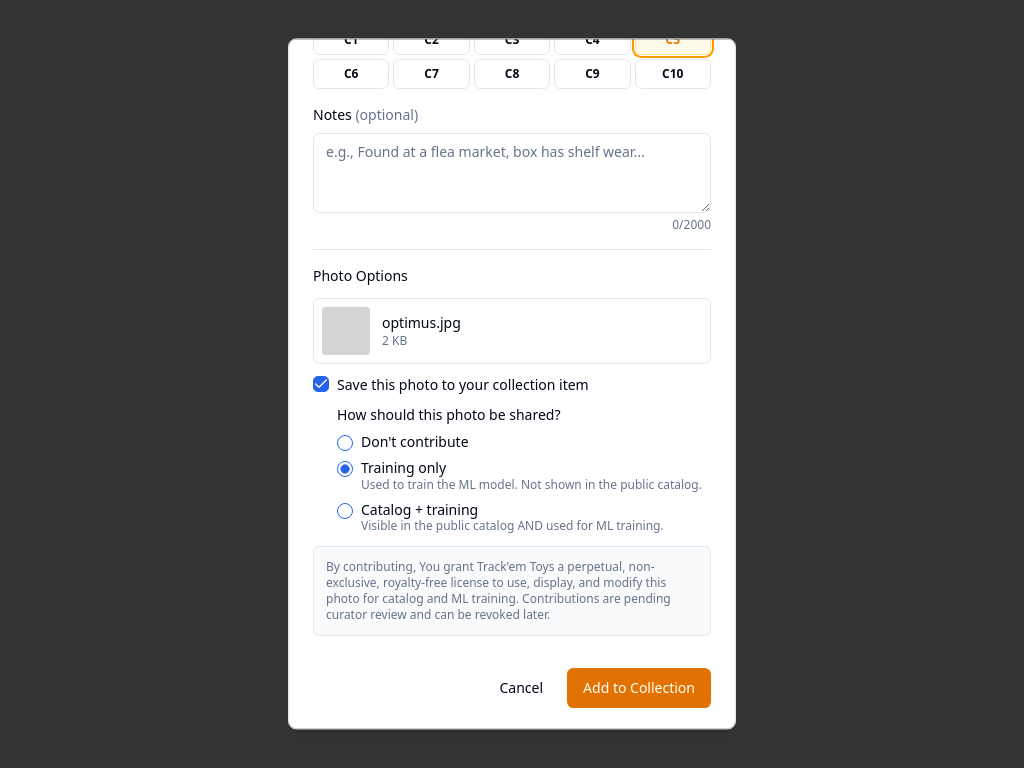
AddToCollectionDialog › hides intent radio when save is unchecked and shows inline disclaimer by default (training_only)
This screenshot has width=1024, height=768.
(page scrolled)
expect the radio button named "Training only" next to "Training only" is shown: met, box [337,462,353,478]
expect the text "perpetual, non-exclusive, royalty-free license" is shown: met, box [326,559,666,608]
# Uncheck save → radio disappears
Click the checkbox named "Save this photo" at (321, 384), box [313,376,329,392]
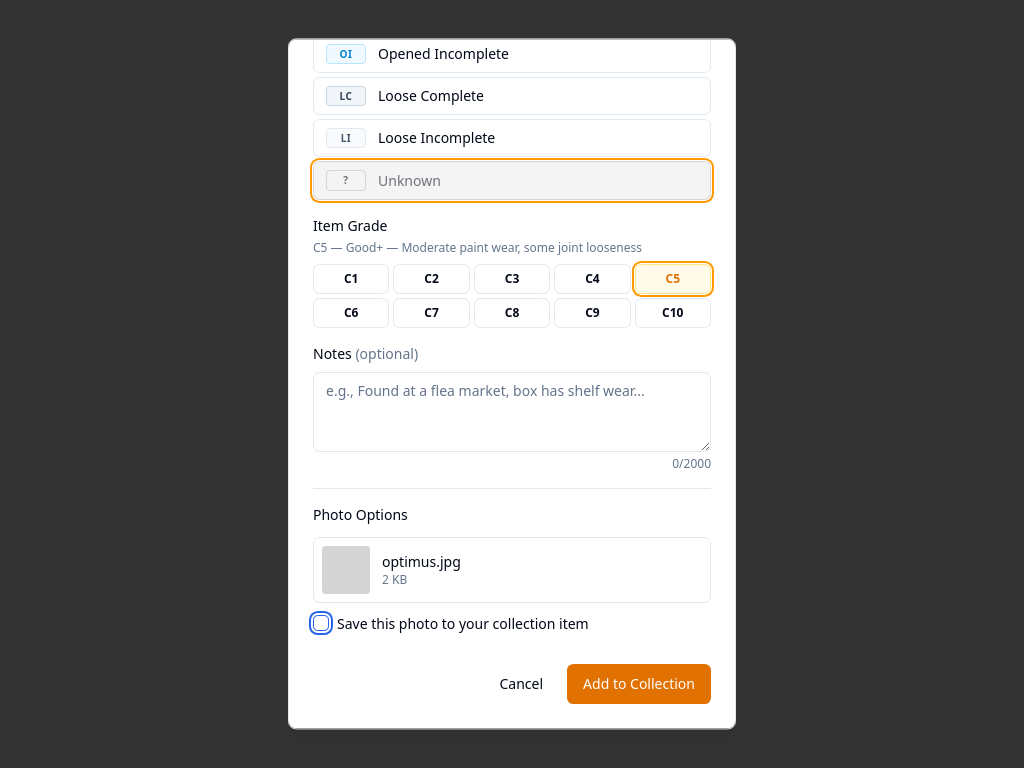
expect the text "Training only" is gone: met
expect the text "perpetual, non-exclusive, royalty-free license" is gone: met
